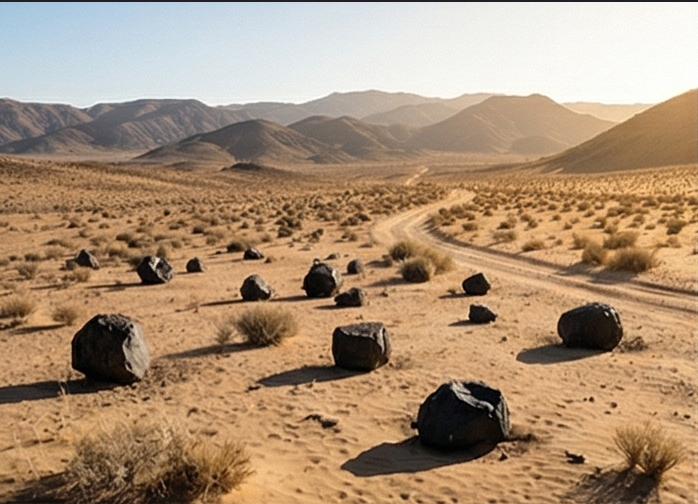rocks: (413, 377, 510, 450), (69, 311, 148, 385), (557, 302, 621, 350), (330, 320, 390, 371), (301, 259, 339, 298), (135, 253, 172, 284), (238, 272, 272, 300), (332, 285, 365, 306), (467, 301, 497, 323), (68, 248, 98, 270), (461, 272, 491, 294), (399, 260, 429, 282), (300, 412, 337, 429), (185, 255, 204, 272), (345, 258, 364, 274), (242, 245, 264, 258), (225, 238, 245, 251), (353, 211, 371, 223), (308, 228, 323, 241), (276, 226, 292, 238), (323, 250, 339, 259), (496, 220, 511, 229)
